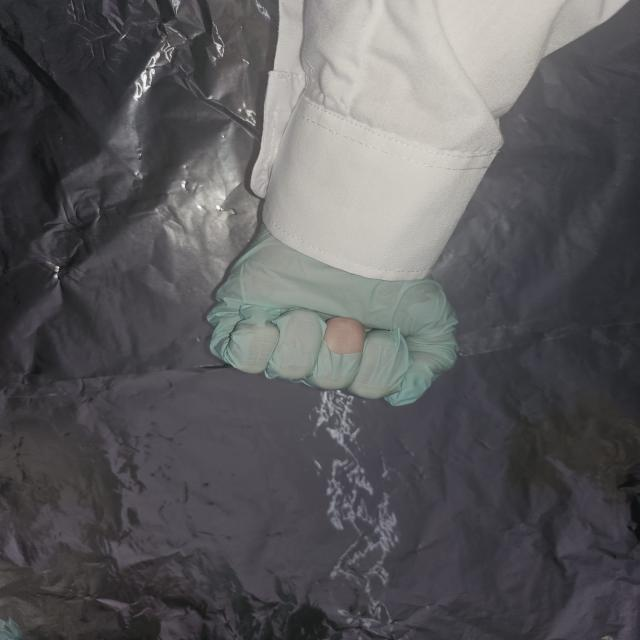gloves_damaged: (204, 223, 466, 407)
